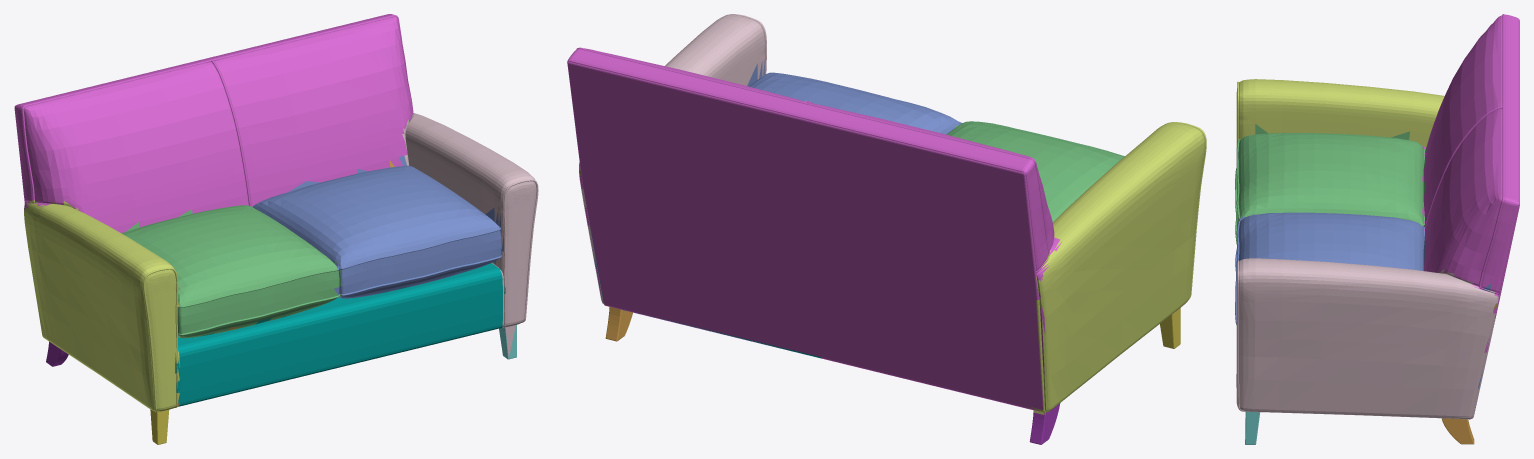
3 renders of one model, left to right at view 1: azimuth 30°, elevation 25°; view 2: azimuth 150°, elevation 25°; view 3: azimuth 270°, elevation 25°, orthographic. The views are drawn at different scales.
Visible parts, largest first — view 1: world; view 2: world; view 3: world.
Boxes of the visible parts, x1,y1,x2,y2 form: world: [14, 14, 538, 444]; world: [567, 14, 1206, 444]; world: [1235, 14, 1519, 444].
Size of the model in its own units: 1.42 by 0.8461 by 0.8707.
